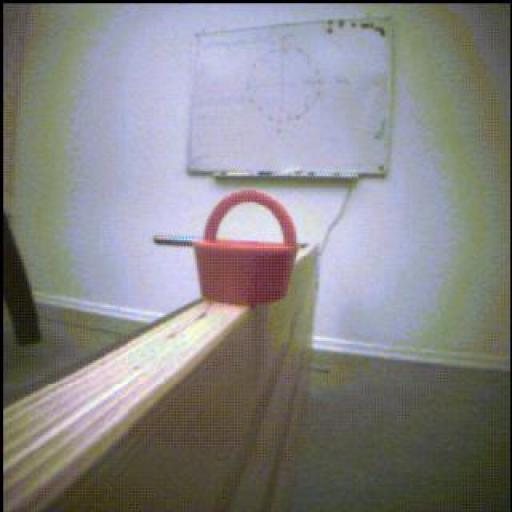Bucket: (195, 192, 299, 307)
